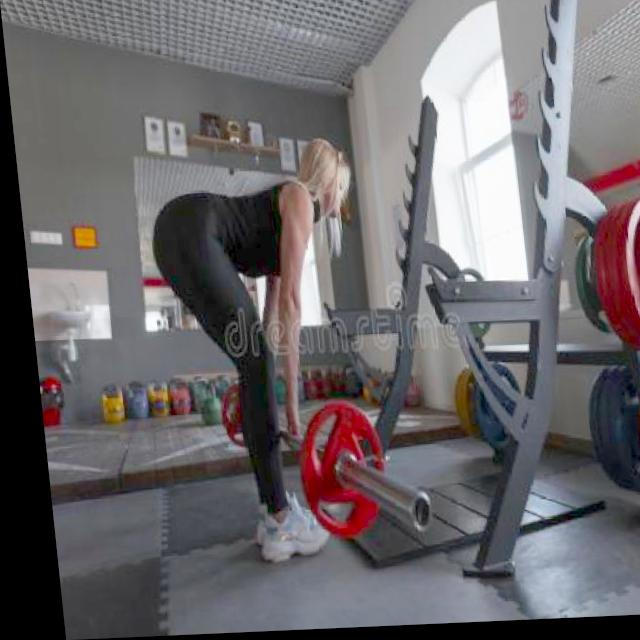barbell: (274, 400, 425, 541)
